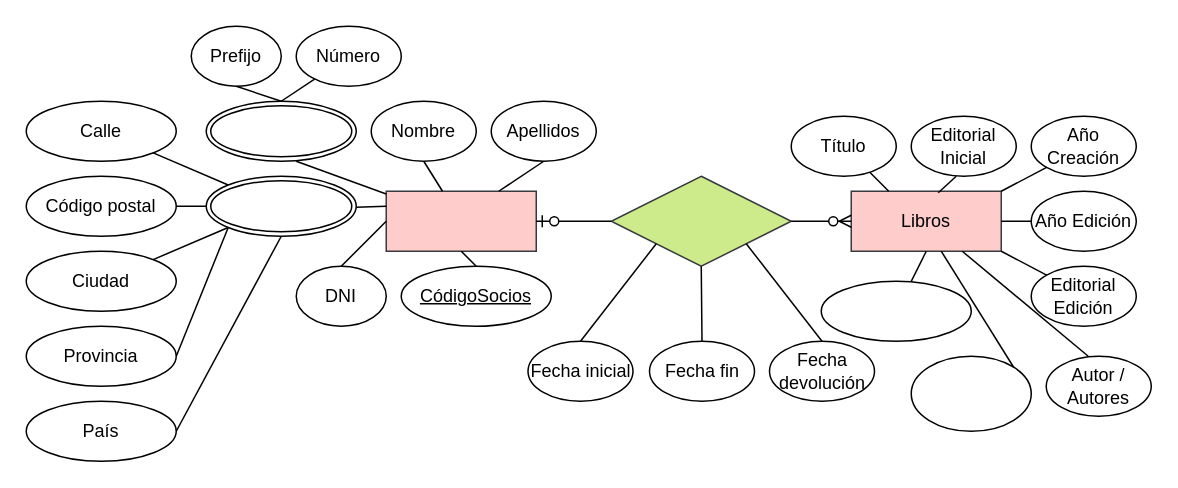
This 1178x488 diagram has some shape labels left out. Each missing label, with the centre of its shape:
Dirección: pixel 280 205
Estado Deteriorado: pixel 970 393
ISBN: pixel 895 310
Prestar: pixel 700 220
Socias/os: pixel 460 220
Teléfono: pixel 280 130
